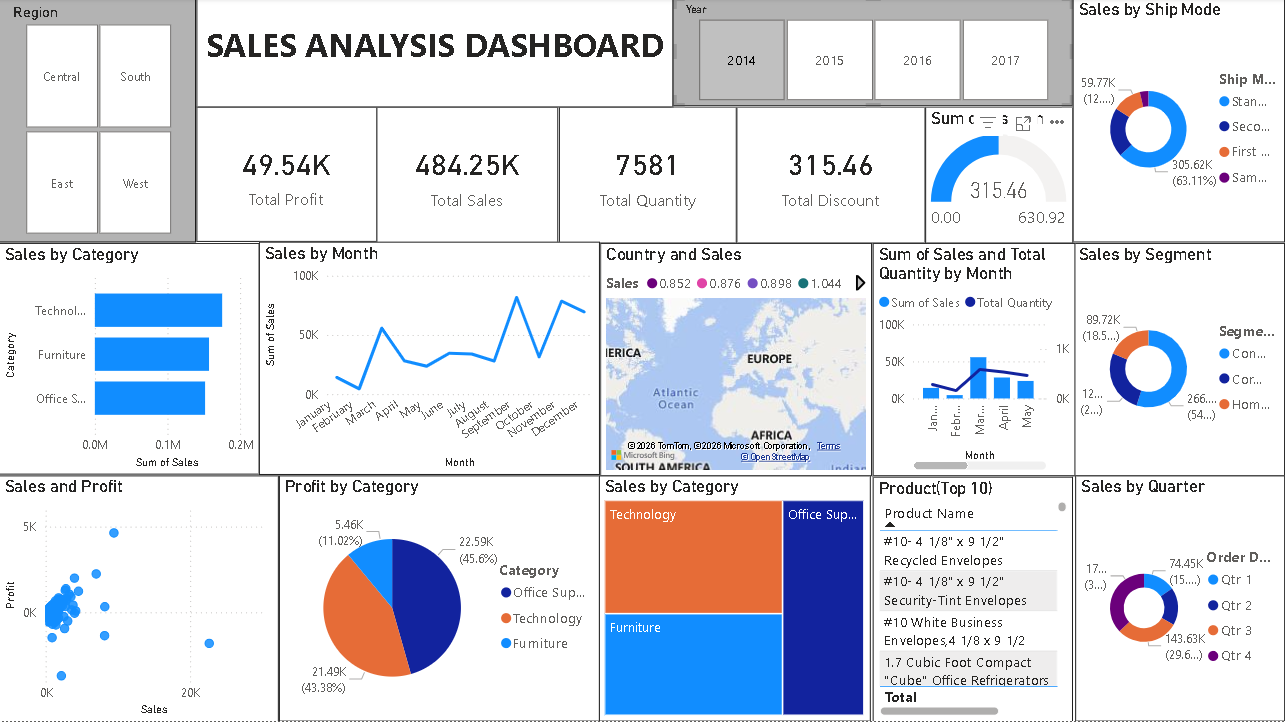

The dashboard page shown, as its layout file describes it:
{"tool":"powerbi","page":{"name":"Page 1","canvas":[1280,720],"ordinal":0},"visuals":[{"type":"card","fields":{"Values":["sample_-_superstore xls - Orders.Total Profit"]},"box":[196.2,108.4,179.8,134.5],"z":0},{"type":"card","fields":{"Values":["sample_-_superstore xls - Orders.Total Sales"]},"box":[376,108.4,181.1,135.8],"z":1000},{"type":"card","fields":{"Values":["sample_-_superstore xls - Orders.Total Quantity"]},"box":[557.1,108.4,177,135.8],"z":2000},{"type":"card","fields":{"Values":["sample_-_superstore xls - Orders.Total Discount"]},"box":[734.1,108.4,188,135.8],"z":3000},{"type":"barChart","title":"Sales by Category ","fields":{"Y":["Sum(sample_-_superstore xls - Orders.Sales)"],"Category":["sample_-_superstore xls - Orders.Category"]},"box":[0,244.3,259.3,230.5],"z":4000},{"type":"lineChart","title":"Sales by Month","fields":{"Y":["Sum(sample_-_superstore xls - Orders.Sales)"],"Category":["sample_-_superstore xls - Orders.Order Date.Variation.Date Hierarchy.Month"]},"box":[259.3,242.9,338.9,231.9],"z":5000},{"type":"map","fields":{"Series":["sample_-_superstore xls - Orders.Sales"],"Category":["sample_-_superstore xls - Orders.Country"]},"box":[598.3,244.3,270.3,231.9],"z":6000},{"type":"scatterChart","fields":{"X":["sample_-_superstore xls - Orders.Sales"],"Y":["sample_-_superstore xls - Orders.Profit"]},"box":[0,474.8,278.6,245.6],"z":7000},{"type":"pieChart","title":"Profit by Category","fields":{"Category":["sample_-_superstore xls - Orders.Category"],"Y":["Sum(sample_-_superstore xls - Orders.Profit)"]},"box":[279,475,319,245],"z":8000},{"type":"treemap","title":"Sales by Category","fields":{"Group":["sample_-_superstore xls - Orders.Category"],"Values":["Sum(sample_-_superstore xls - Orders.Sales)"]},"box":[597.5,475,270,245],"z":9000},{"type":"gauge","fields":{"Y":["Sum(sample_-_superstore xls - Orders.Discount)"]},"box":[922.1,108.4,146.8,135.8],"z":10000},{"type":"slicer","fields":{"Values":["sample_-_superstore xls - Orders.Order Date.Variation.Date Hierarchy.Year"]},"box":[671,0,397.9,108.4],"z":10001},{"type":"donutChart","title":"Sales by Ship Mode","fields":{"Y":["Sum(sample_-_superstore xls - Orders.Sales)"],"Category":["sample_-_superstore xls - Orders.Ship Mode"]},"box":[1069,0,211.3,242.9],"z":10002},{"type":"donutChart","title":"Sales by Segment","fields":{"Y":["Sum(sample_-_superstore xls - Orders.Sales)"],"Category":["sample_-_superstore xls - Orders.Segment"]},"box":[1069,244.3,211.3,231.9],"z":10003},{"type":"donutChart","title":"Sales by Quarter","fields":{"Y":["Sum(sample_-_superstore xls - Orders.Sales)"],"Category":["sample_-_superstore xls - Orders.Order Date.Variation.Date Hierarchy.Quarter"]},"box":[1071.2,475,208.8,245],"z":10004},{"type":"slicer","fields":{"Values":["sample_-_superstore xls - Orders.Region"]},"box":[0,0,196.2,242.9],"z":10005},{"type":"textbox","box":[196.2,0,474.8,108.4],"z":10006},{"type":"lineStackedColumnComboChart","fields":{"Y":["Sum(sample_-_superstore xls - Orders.Sales)"],"Category":["sample_-_superstore xls - Orders.Order Date.Variation.Date Hierarchy.Month"],"Y2":["sample_-_superstore xls - Orders.Total Quantity"]},"box":[870,244.3,201.7,231.9],"z":10007},{"type":"tableEx","title":"Product(Top 10)","fields":{"Values":["sample_-_superstore xls - Orders.Product Name","sample_-_superstore xls - Orders.Total Sales"]},"box":[870,476,199,244],"z":10008}]}

Visuals, with their boxes in screenshot pixels (x1, y1, x2, y2), scaled from the page's 1280x720 canvas onto the 1285x722 screenshot:
card - sample_-_superstore xls - Orders.Total Profit: bbox=[197, 109, 377, 244]
card - sample_-_superstore xls - Orders.Total Sales: bbox=[377, 109, 559, 245]
card - sample_-_superstore xls - Orders.Total Quantity: bbox=[559, 109, 737, 245]
card - sample_-_superstore xls - Orders.Total Discount: bbox=[737, 109, 926, 245]
"Sales by Category " barChart: bbox=[0, 245, 260, 476]
"Sales by Month" lineChart: bbox=[260, 244, 601, 476]
map - sample_-_superstore xls - Orders.Sales x sample_-_superstore xls - Orders.Country: bbox=[601, 245, 872, 478]
scatterChart - sample_-_superstore xls - Orders.Sales x sample_-_superstore xls - Orders.Profit: bbox=[0, 476, 280, 721]
"Profit by Category" pieChart: bbox=[280, 476, 600, 721]
"Sales by Category" treemap: bbox=[600, 476, 871, 721]
gauge - Sum(sample_-_superstore xls - Orders.Discount): bbox=[926, 109, 1073, 245]
slicer - sample_-_superstore xls - Orders.Order Date.Variation.Date Hierarchy.Year: bbox=[674, 0, 1073, 109]
"Sales by Ship Mode" donutChart: bbox=[1073, 0, 1284, 244]
"Sales by Segment" donutChart: bbox=[1073, 245, 1284, 478]
"Sales by Quarter" donutChart: bbox=[1075, 476, 1284, 721]
slicer - sample_-_superstore xls - Orders.Region: bbox=[0, 0, 197, 244]
textbox: bbox=[197, 0, 674, 109]
lineStackedColumnComboChart - Sum(sample_-_superstore xls - Orders.Sales) x sample_-_superstore xls - Orders.Order Date.Variation.Date Hierarchy.Month: bbox=[873, 245, 1076, 478]
"Product(Top 10)" tableEx: bbox=[873, 477, 1073, 721]
